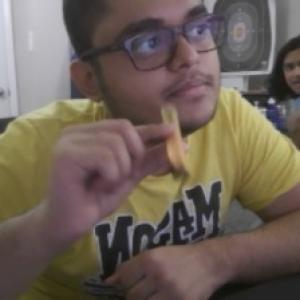Golden-E-Ciggirate: (157, 98, 193, 183)
